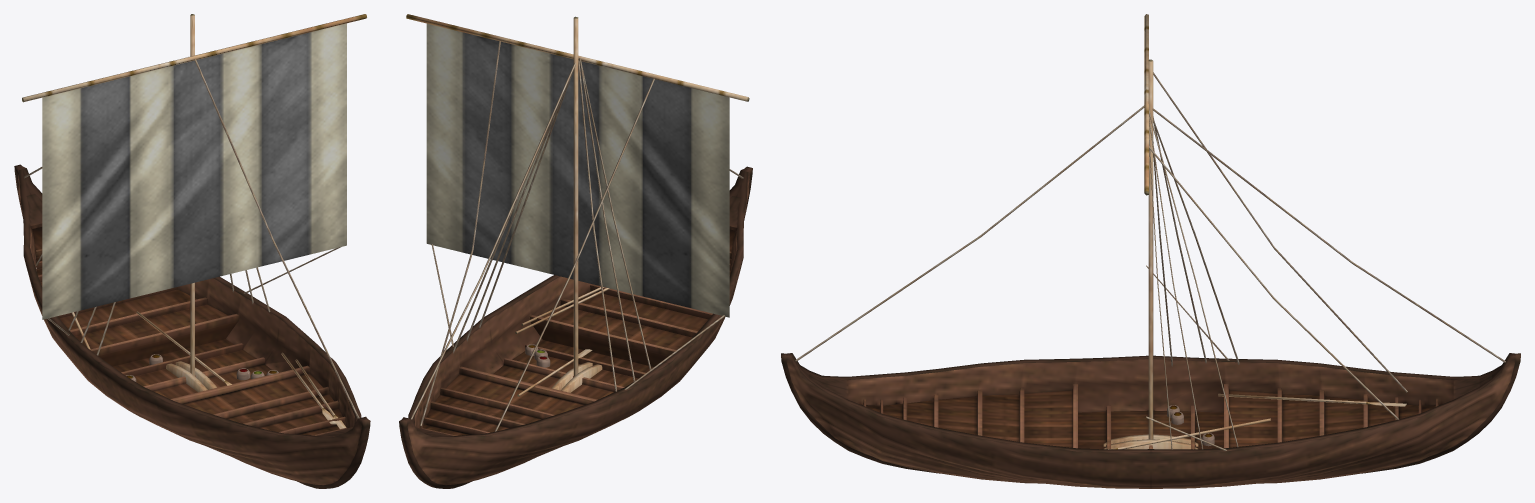
The model's file is 0ad-ancient.581d5536b61a.knarr.glb.
The picture shows the model from 3 angles, left to right: view 1: azimuth 30°, elevation 25°; view 2: azimuth 150°, elevation 25°; view 3: azimuth 270°, elevation 25°; orthographic projection. The views are drawn at different scales.
Parts seen in each view (by area): view 1: structures/germans/ship_knarr.xml; view 2: structures/germans/ship_knarr.xml; view 3: structures/germans/ship_knarr.xml.
Part boxes in pixels (left/top/right/bottom): structures/germans/ship_knarr.xml: left=14, top=14, right=370, bottom=488; structures/germans/ship_knarr.xml: left=399, top=14, right=752, bottom=488; structures/germans/ship_knarr.xml: left=781, top=14, right=1520, bottom=488.
Size of the model in its own units: 17.64 by 19.37 by 31.16.
1 material, 1 textured.
